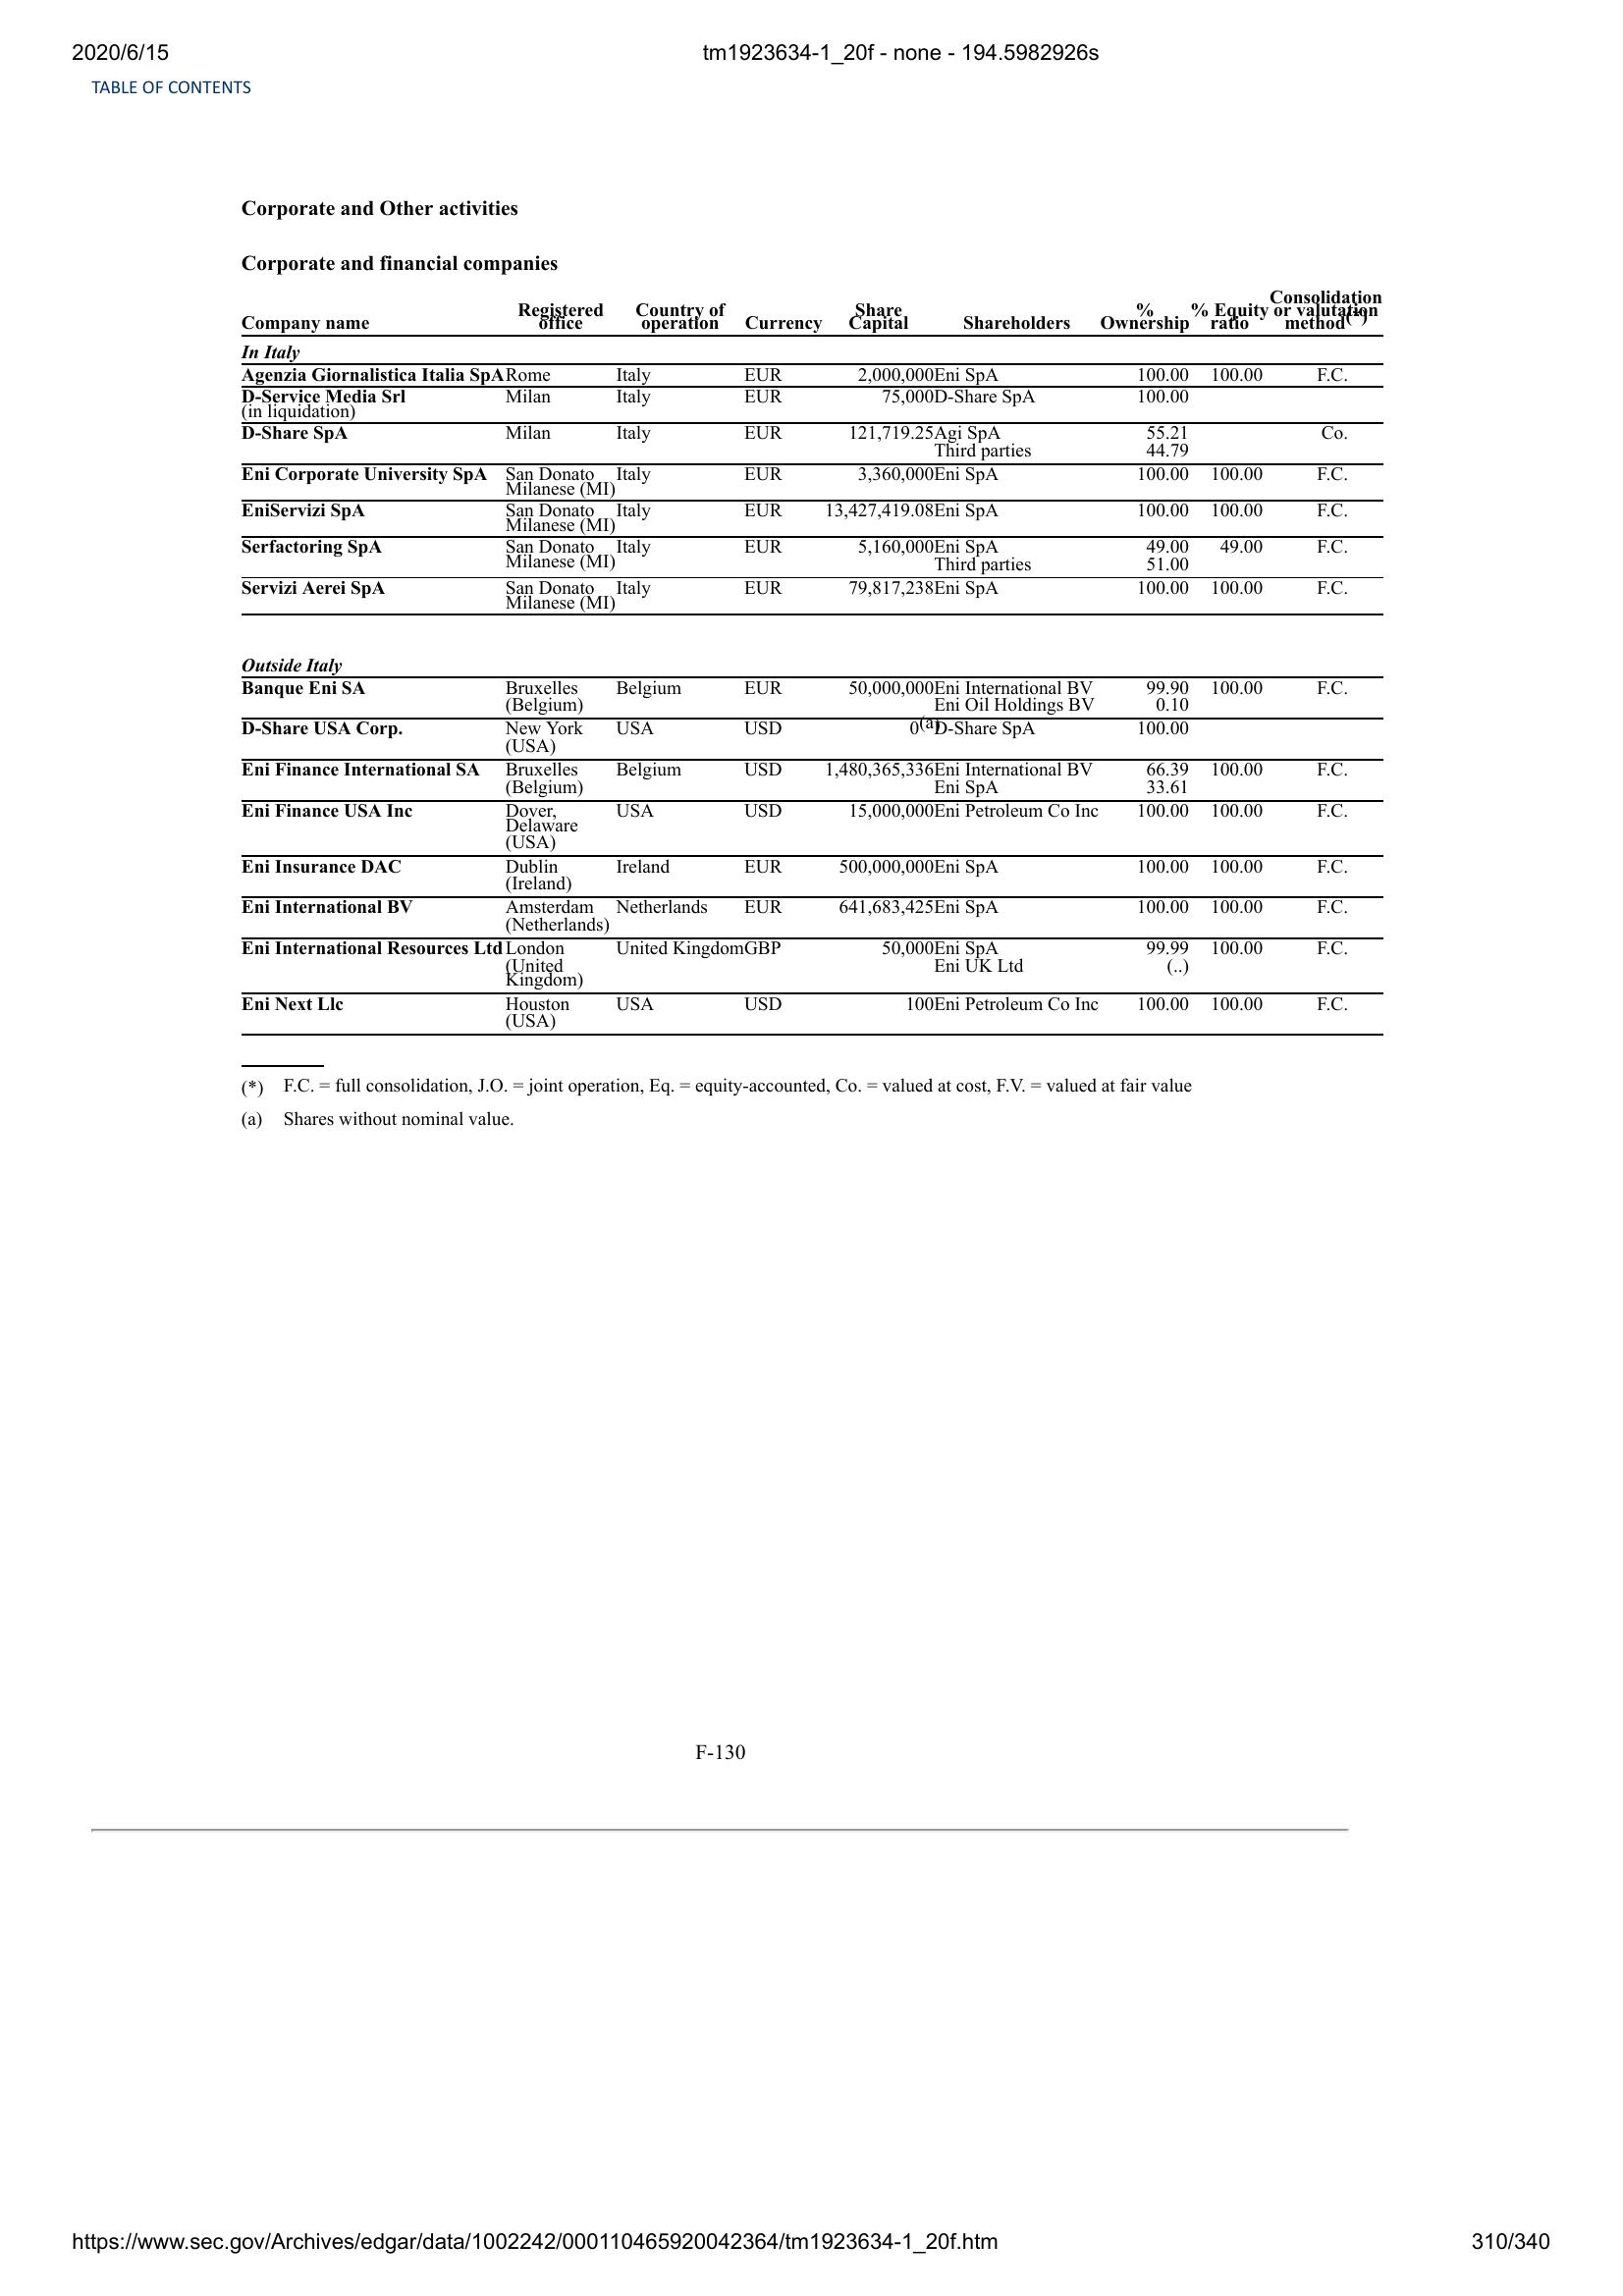table: (235, 283, 1388, 1041)
